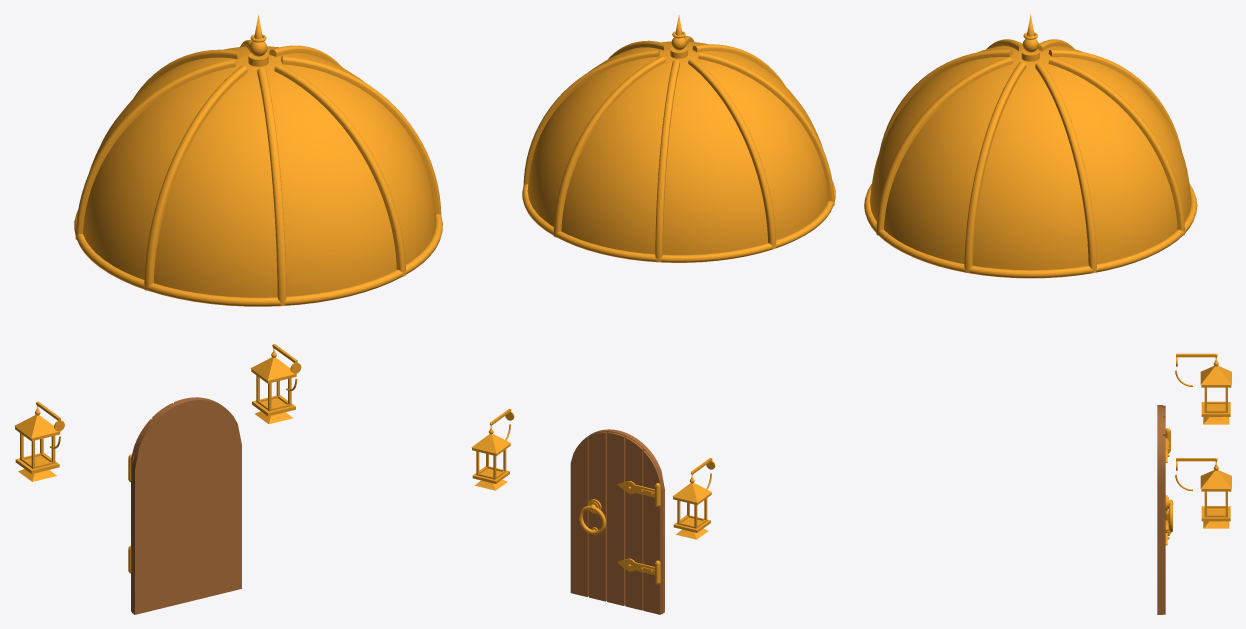
The model's file is HaloDomeHouse_03_ornaments.glb.
3 views of the same model, side by side, from view 1: azimuth 30°, elevation 25°; view 2: azimuth 150°, elevation 25°; view 3: azimuth 270°, elevation 25° (orthographic). The views are drawn at different scales.
Parts seen in each view (by area): view 1: Orn_HaloDomeHouse_03_Dome, Orn_HaloDomeHouse_03_Leaf, Orn_HaloDomeHouse_03_Dome_Ribs, Orn_HaloDomeHouse_03_Lantern1, Orn_HaloDomeHouse_03_Lantern0; view 2: Orn_HaloDomeHouse_03_Dome, Orn_HaloDomeHouse_03_Leaf, Orn_HaloDomeHouse_03_Dome_Ribs, Orn_HaloDomeHouse_03_Lantern0, Orn_HaloDomeHouse_03_Lantern1; view 3: Orn_HaloDomeHouse_03_Dome, Orn_HaloDomeHouse_03_Dome_Ribs, Orn_HaloDomeHouse_03_Leaf, Orn_HaloDomeHouse_03_Lantern1, Orn_HaloDomeHouse_03_Lantern0.
Part boxes in pixels (x1,y1,x2,y2): Orn_HaloDomeHouse_03_Dome: (74,14,442,306); Orn_HaloDomeHouse_03_Leaf: (131,397,241,614); Orn_HaloDomeHouse_03_Dome_Ribs: (75,40,441,305); Orn_HaloDomeHouse_03_Lantern1: (14,401,64,481); Orn_HaloDomeHouse_03_Lantern0: (250,344,301,423); Orn_HaloDomeHouse_03_Dome: (522,15,835,262); Orn_HaloDomeHouse_03_Leaf: (570,429,664,614); Orn_HaloDomeHouse_03_Dome_Ribs: (523,36,834,262); Orn_HaloDomeHouse_03_Lantern0: (471,408,514,490); Orn_HaloDomeHouse_03_Lantern1: (672,458,715,539); Orn_HaloDomeHouse_03_Dome: (864,14,1197,278); Orn_HaloDomeHouse_03_Dome_Ribs: (876,39,1184,272); Orn_HaloDomeHouse_03_Leaf: (1157,405,1165,614); Orn_HaloDomeHouse_03_Lantern1: (1175,353,1231,424); Orn_HaloDomeHouse_03_Lantern0: (1175,458,1231,528).
Bounding box in the file's own units: 12.84 × 24.55 × 14.17.
